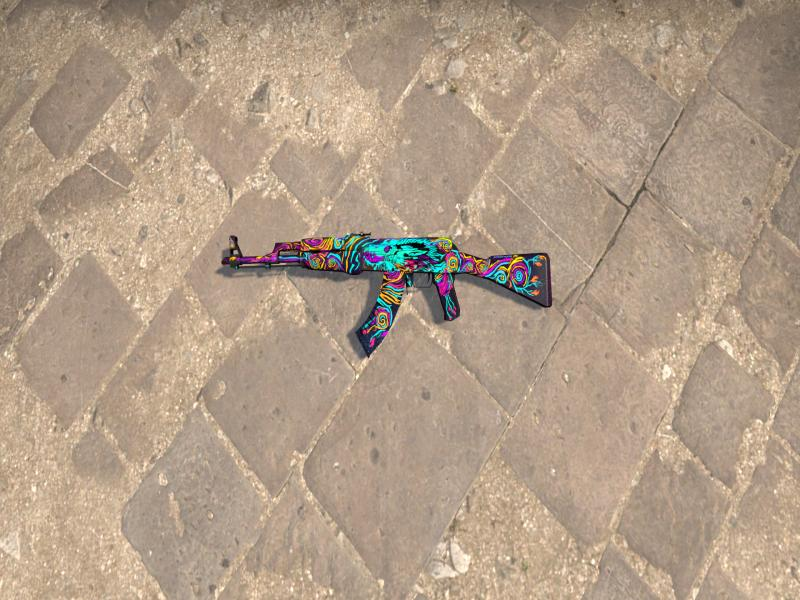AK47: (221, 232, 552, 356)
